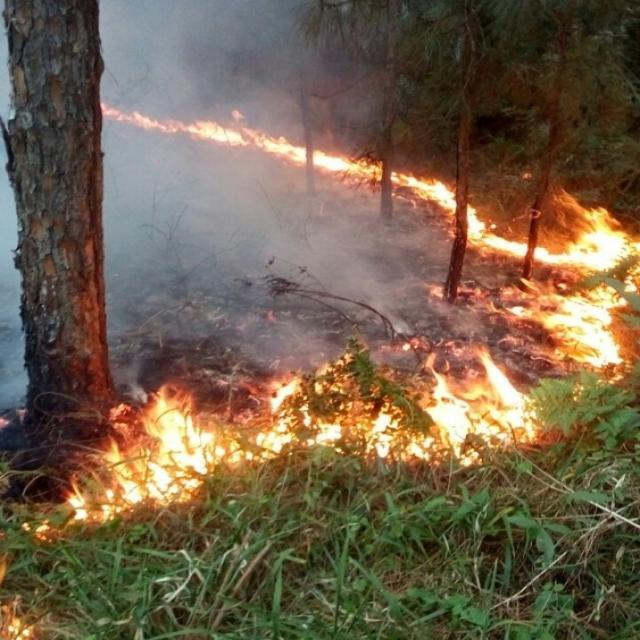Fire: (105, 102, 632, 271), (50, 378, 547, 526), (469, 280, 626, 375)
